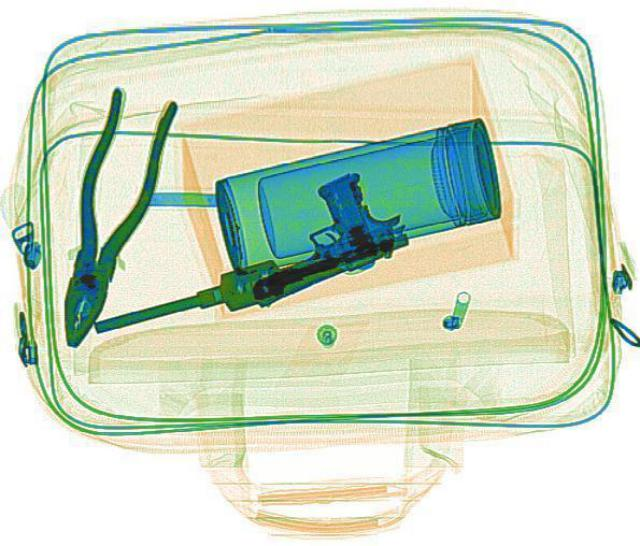Gun: (202, 162, 418, 308)
Pliers: (31, 82, 183, 350)
